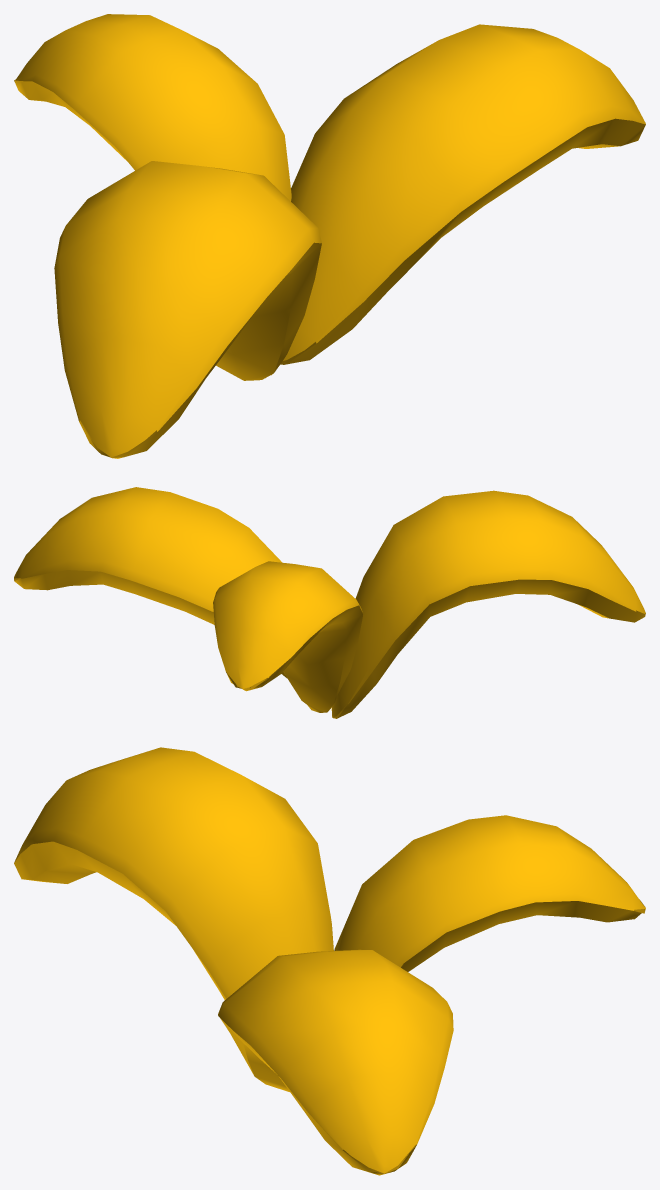
File: Plant2_Orange.fbx
The picture shows the model from 3 angles, top to bottom: view 1: azimuth 30°, elevation 25°; view 2: azimuth 150°, elevation 25°; view 3: azimuth 270°, elevation 25°; orthographic projection. The views are drawn at different scales.
Parts seen in each view (by area): view 1: plantB_forest.001; view 2: plantB_forest.001; view 3: plantB_forest.001.
Boxes of the visible parts, <box> form: plantB_forest.001: <box>14,14,645,458</box>; plantB_forest.001: <box>14,487,645,718</box>; plantB_forest.001: <box>14,747,645,1175</box>.
Bounding box in the file's own units: 4.04 × 1.52 × 3.29.
